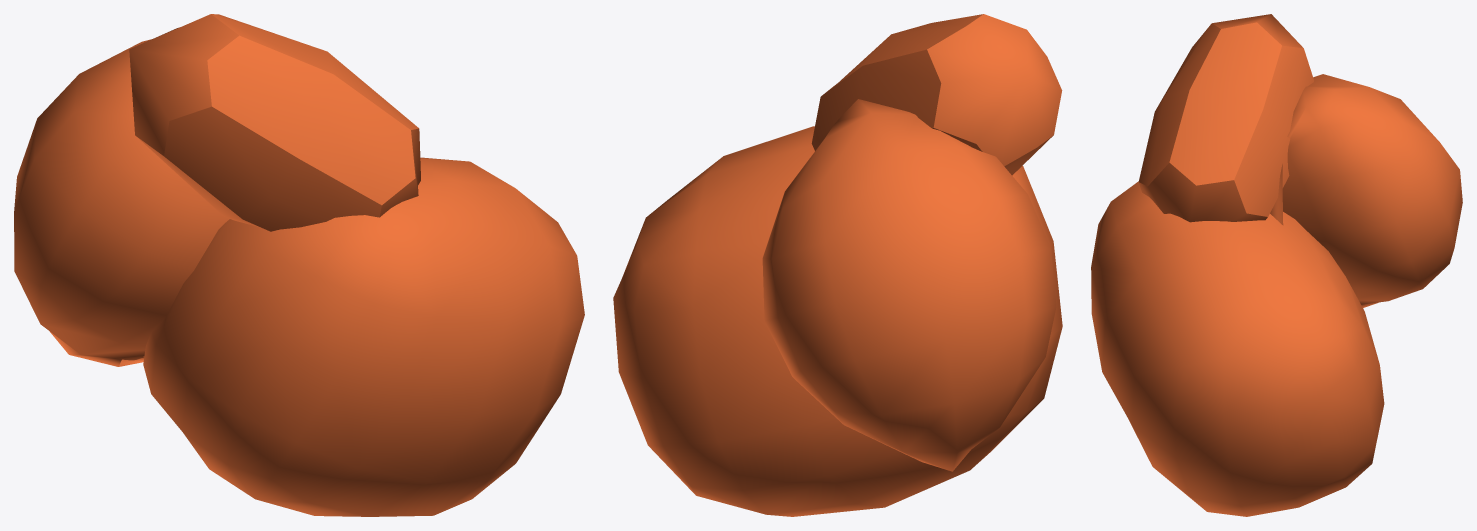
The model's file is arm_bearded.glb.
3 renders of one model, left to right at view 1: azimuth 30°, elevation 25°; view 2: azimuth 150°, elevation 25°; view 3: azimuth 270°, elevation 25°, orthographic. The views are drawn at different scales.
Visible parts, largest first — view 1: bearded.002; view 2: bearded.002; view 3: bearded.002.
Boxes of the visible parts, x1,y1,x2,y2 form: bearded.002: (14, 14, 584, 516); bearded.002: (613, 14, 1062, 516); bearded.002: (1091, 14, 1462, 516).
Bounding box in the file's own units: 0.1441 × 0.1548 × 0.1267.
